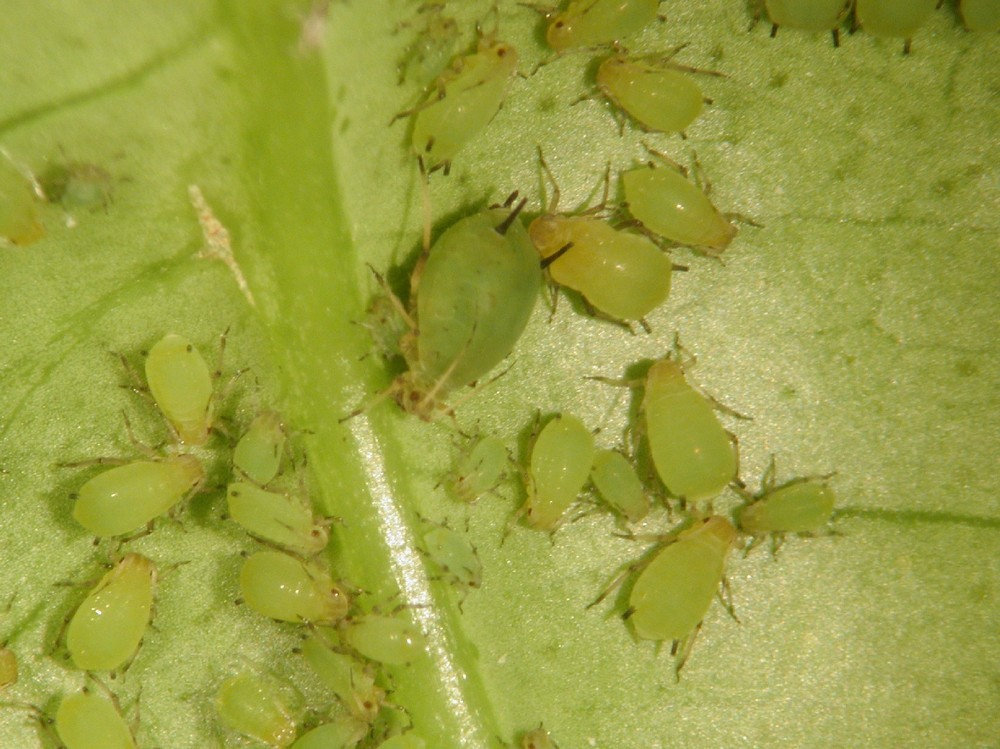Pulgon: (364, 195, 557, 429), (525, 181, 689, 333), (388, 33, 539, 189), (609, 512, 750, 673), (615, 344, 753, 506), (608, 146, 765, 277), (101, 318, 243, 455), (54, 434, 223, 547), (41, 540, 173, 674), (573, 38, 727, 144), (222, 535, 360, 635), (214, 471, 350, 562), (515, 400, 598, 548), (294, 627, 404, 723), (520, 1, 681, 62), (732, 474, 861, 550), (198, 663, 312, 749), (432, 415, 519, 514), (33, 677, 151, 749), (372, 3, 468, 89), (221, 406, 307, 497), (583, 442, 667, 527), (334, 606, 442, 671)
